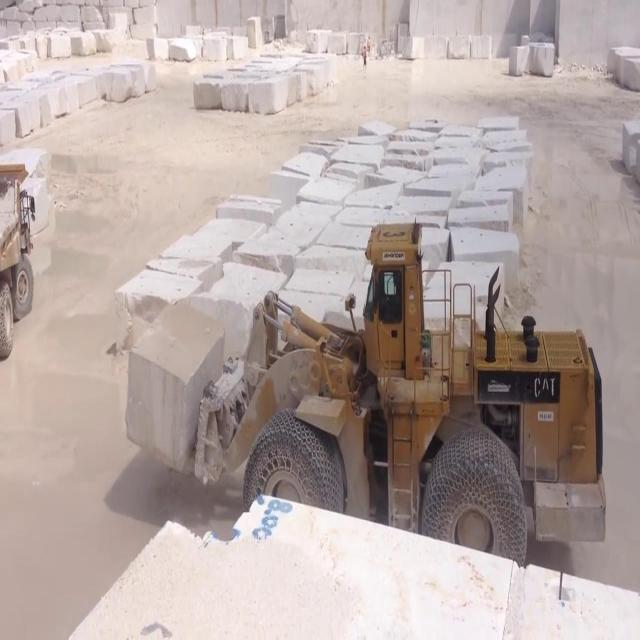buldozerpayloadergrader: (188, 201, 610, 566)
dump_truck: (0, 159, 38, 365)
